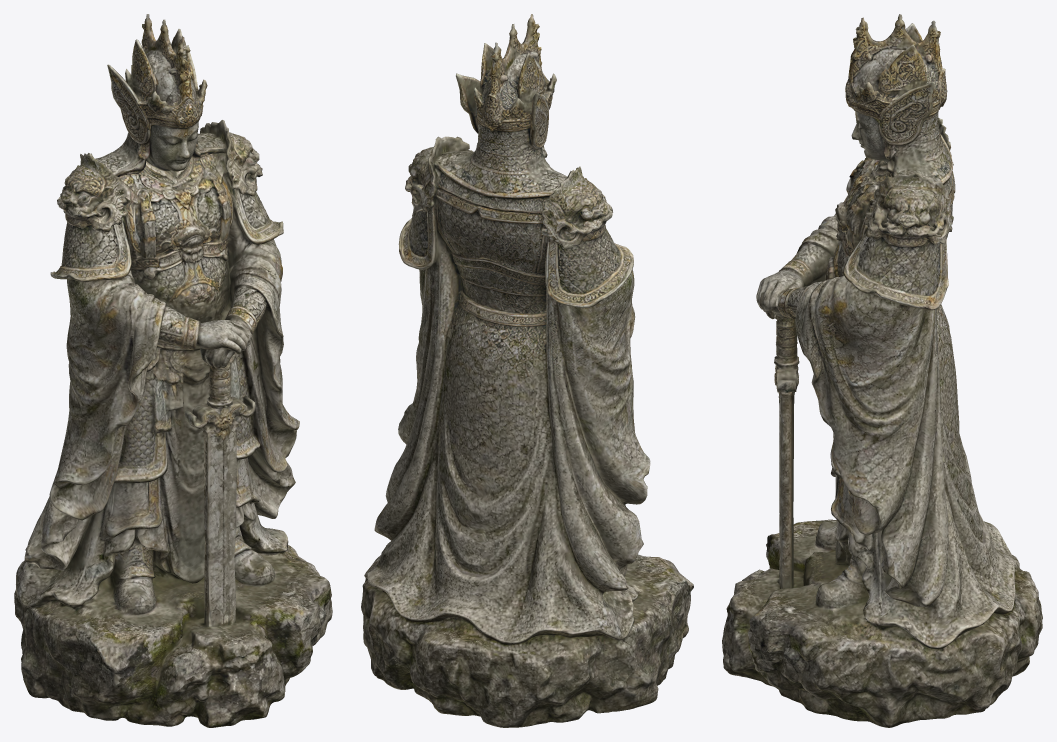
The model's file is guardian_a.glb.
3 views of the same model, side by side, from view 1: azimuth 30°, elevation 25°; view 2: azimuth 150°, elevation 25°; view 3: azimuth 270°, elevation 25° (orthographic).
Parts seen in each view (by area): view 1: clean; view 2: clean; view 3: clean.
Boxes of the visible parts, left/top/right/bottom form: clean: left=14, top=14, right=332, bottom=727; clean: left=361, top=14, right=693, bottom=727; clean: left=722, top=14, right=1042, bottom=727.
Size of the model in its own units: 67.58 by 150 by 66.98.
1 material, 1 textured.
